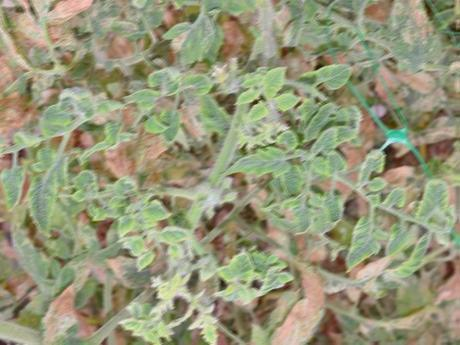Tomato leaf yellow virus: (132, 196, 188, 221), (260, 64, 292, 98), (154, 225, 199, 249), (231, 243, 253, 287), (244, 99, 284, 123)
